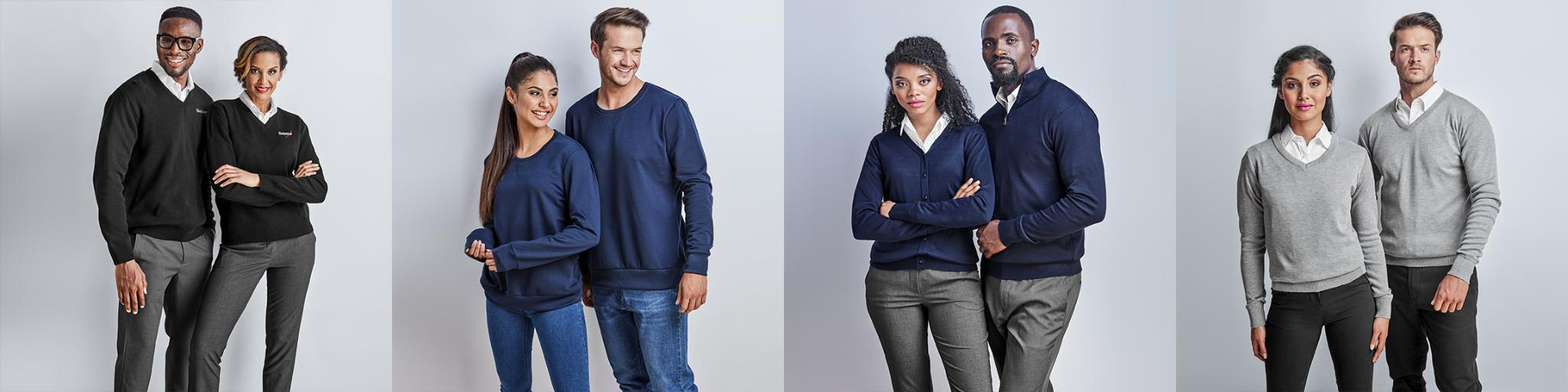sweater: (565, 80, 716, 292), (1233, 130, 1395, 325), (1356, 87, 1503, 284), (975, 65, 1108, 270), (90, 64, 220, 265), (463, 130, 603, 311), (848, 114, 997, 272), (206, 98, 330, 240)
trousers: (188, 227, 319, 392), (863, 261, 992, 392), (112, 229, 215, 392), (1257, 273, 1380, 392), (1377, 258, 1483, 392), (986, 269, 1083, 392), (591, 286, 698, 392), (481, 293, 591, 392)
